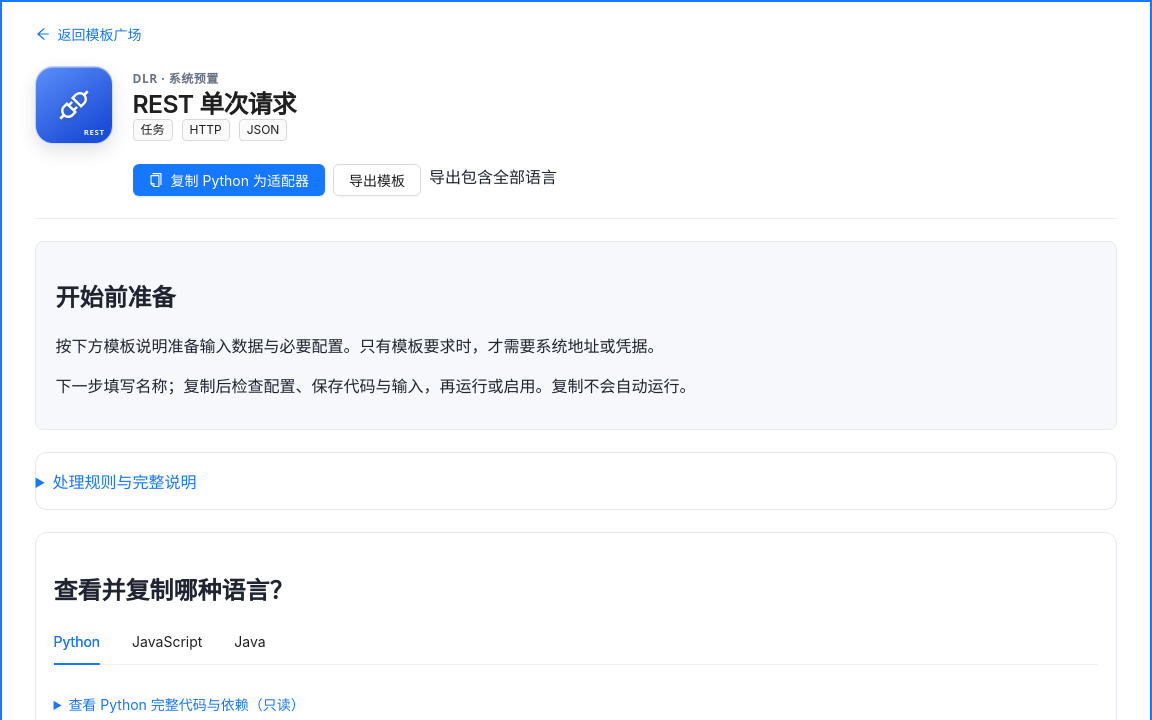
Test: Scenario detail and copy › validates the copy name and keeps a conflicting value in the open dialog
Click the button "复制 Python 为适配器" at (229, 180), box [132,164,325,196]
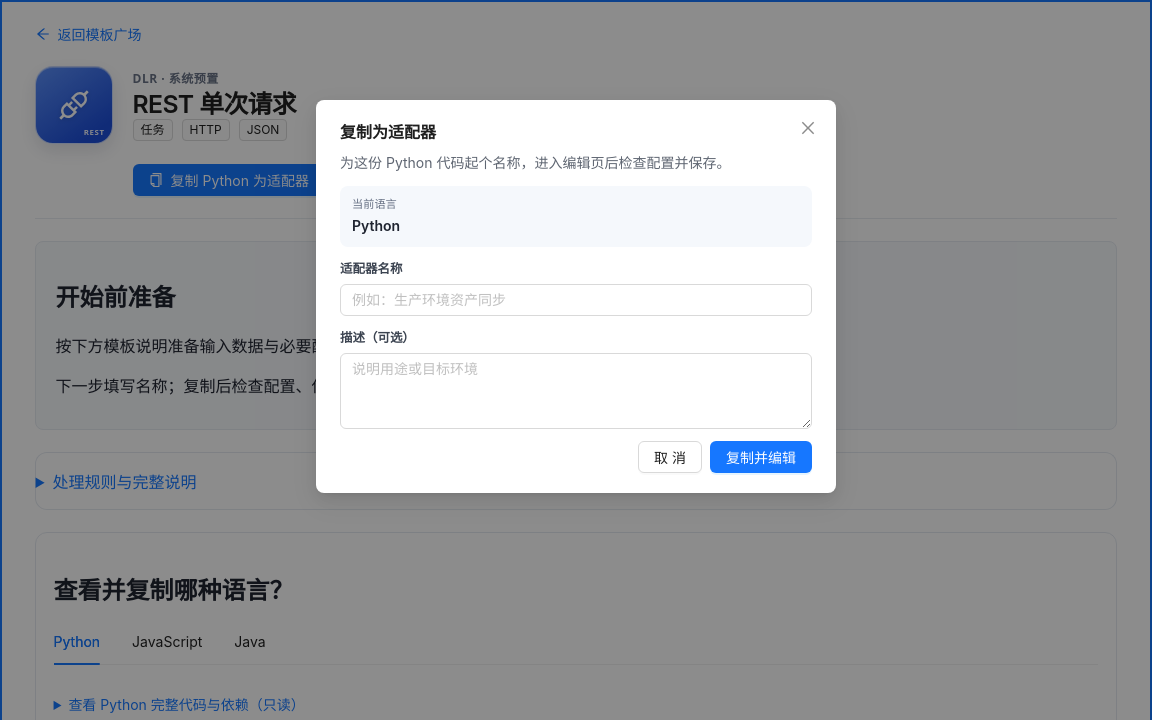
Click the button "复制并编辑" at (761, 456), box [710,440,812,472]
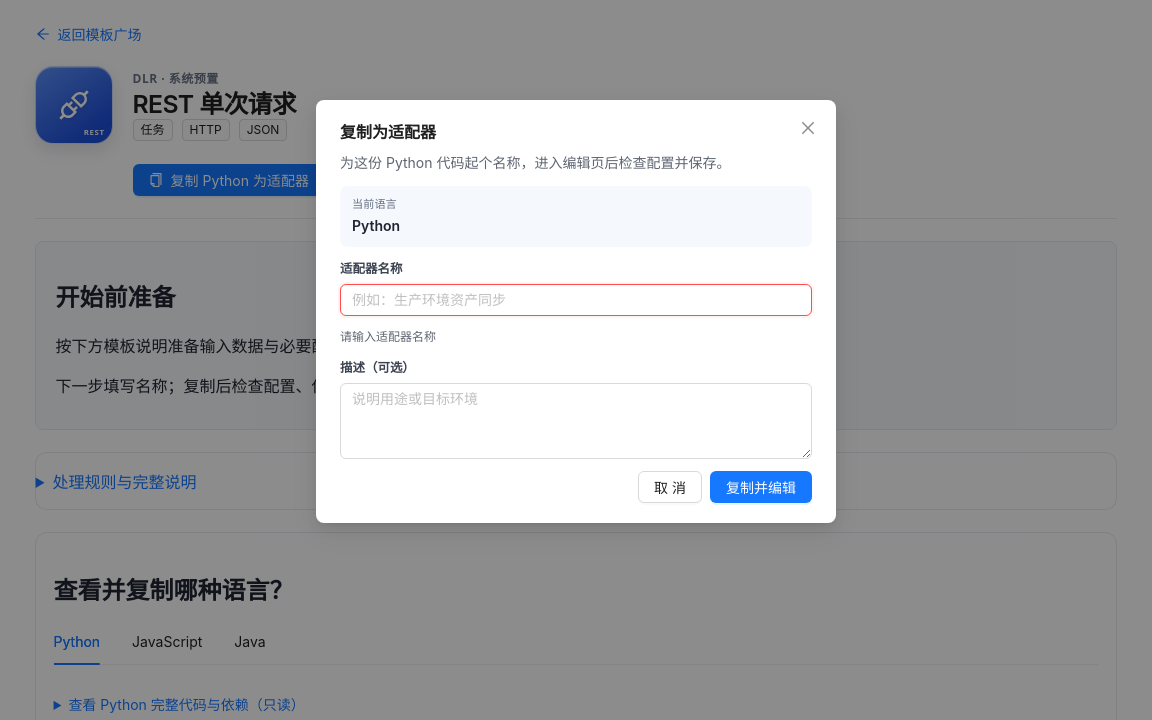
Expected: the text "请输入适配器名称" is shown, [340,329,436,344]
Type "生产资产同步" into the field labelled "适配器名称" at (576, 300), box [340,284,812,316]
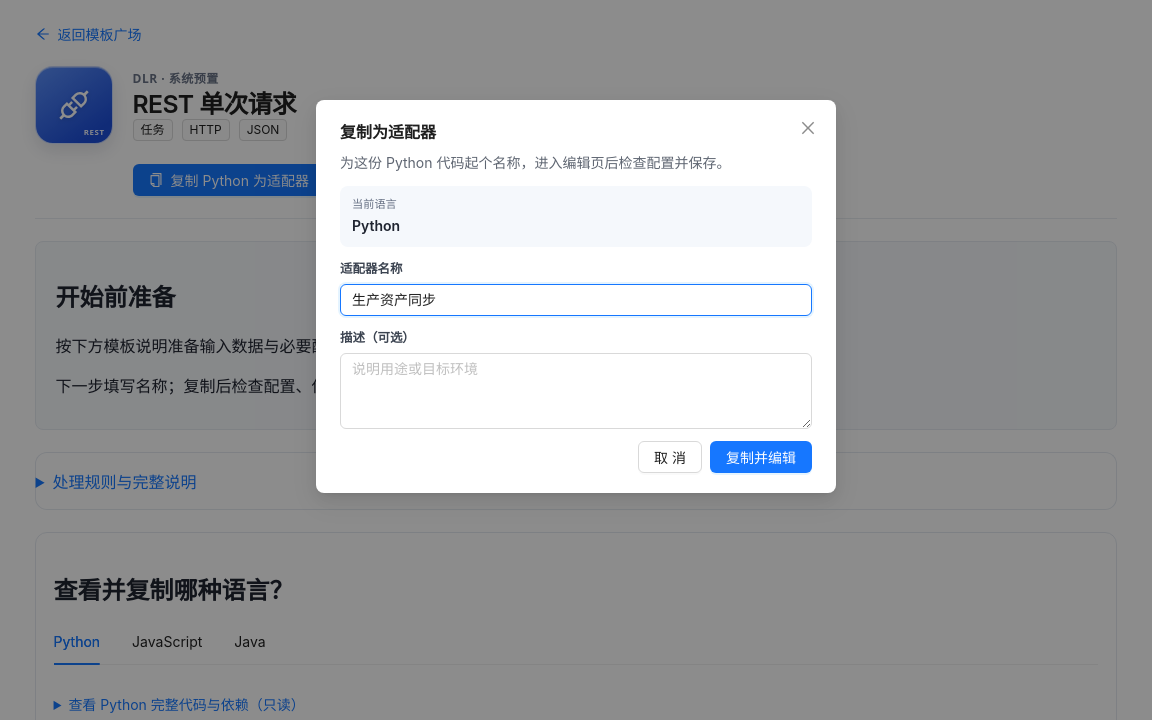
Click the button "复制并编辑" at (761, 456), box [710,440,812,472]
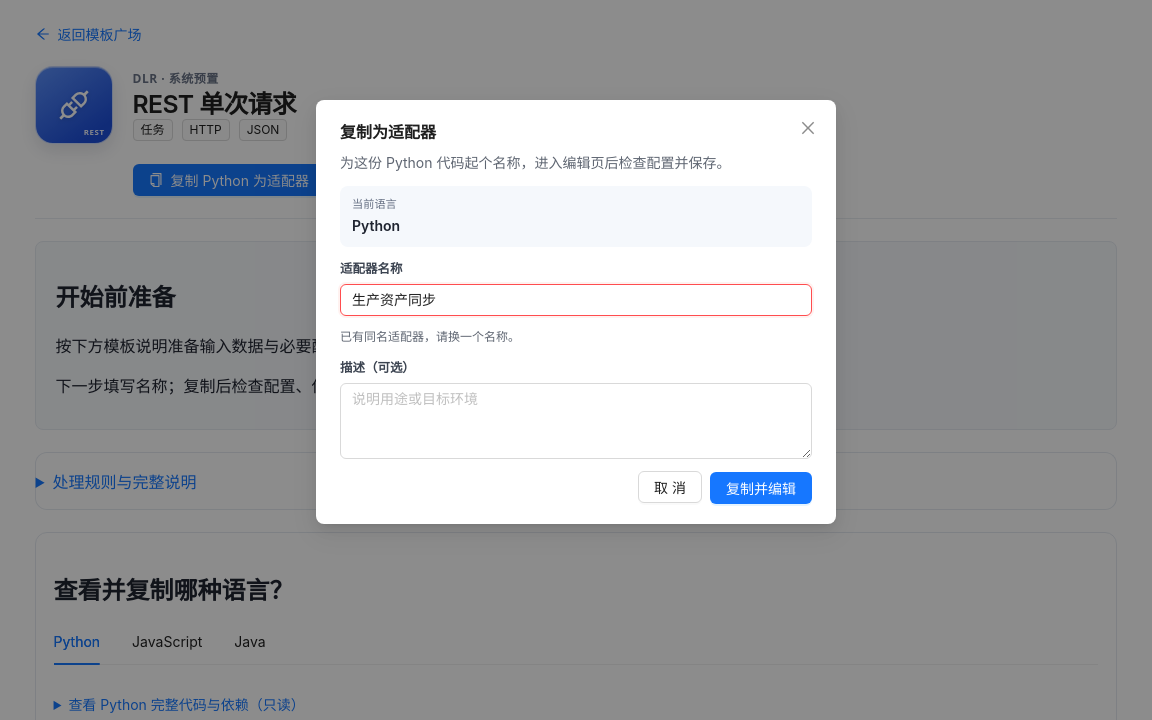
Expected: the dialog is shown, [316,100,836,548]
Expected: the text "已有同名适配器，请换一个名称。" is shown, [340,329,520,344]
